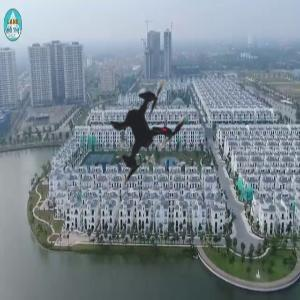drone: (69, 56, 223, 210)
